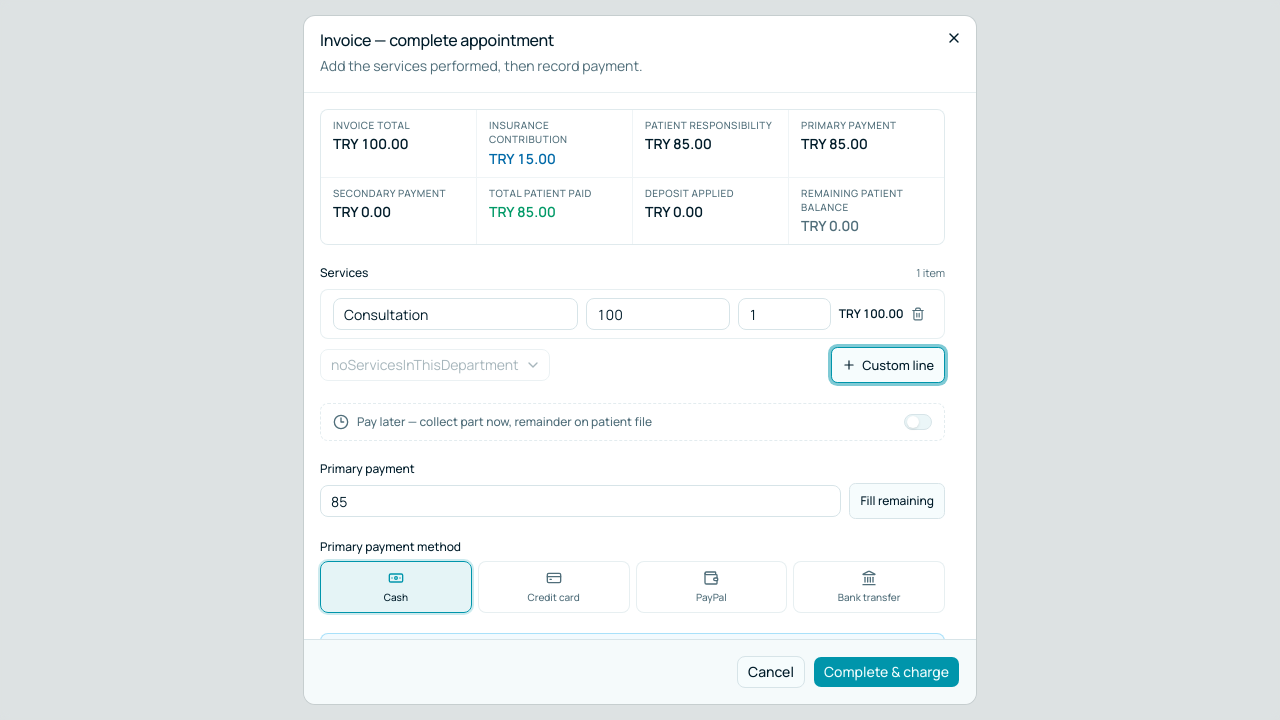
Test: BillingDialog insurance allocation › recalculates percentage insurance when the invoice total changes
Check: the field showing "Consultation" is shown, box [333, 298, 578, 330]
Replace the text in the 1st number field showing "100" with "200" at (658, 314), box [586, 298, 730, 330]
(page scrolled)
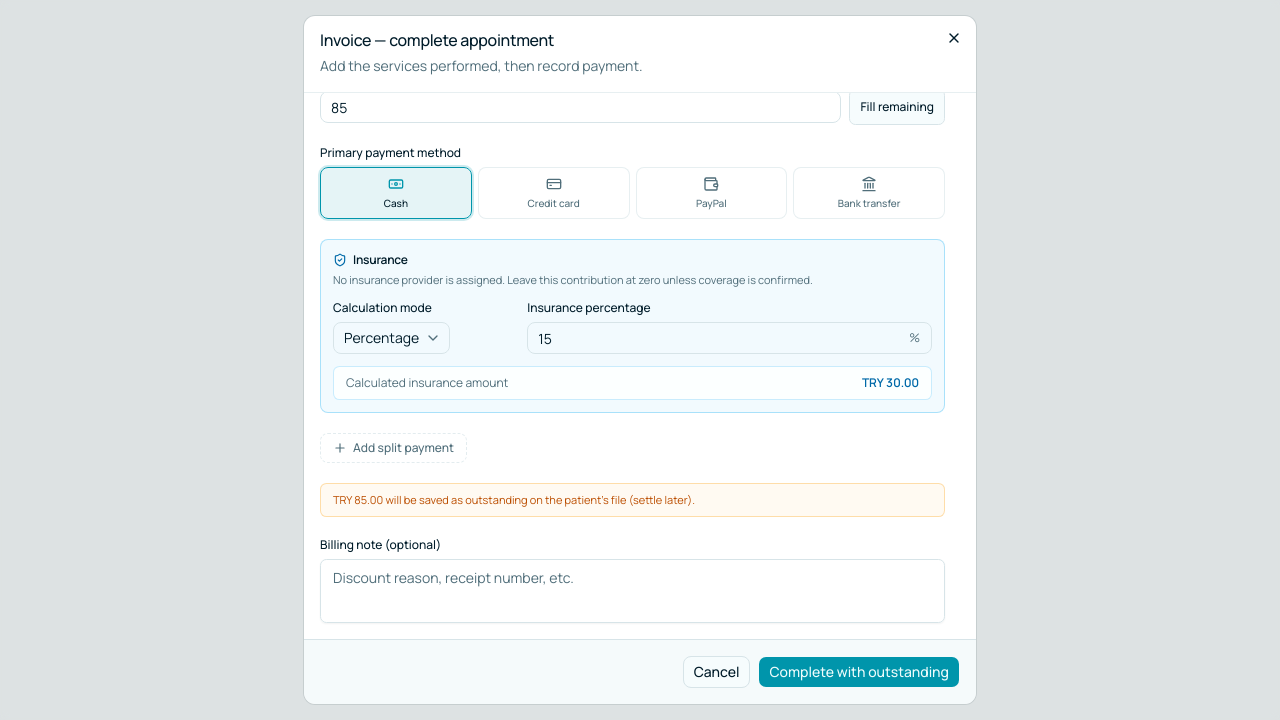
Check: the text with test id "calculated-insurance-amount" shows "30.00", box [862, 374, 919, 391]
